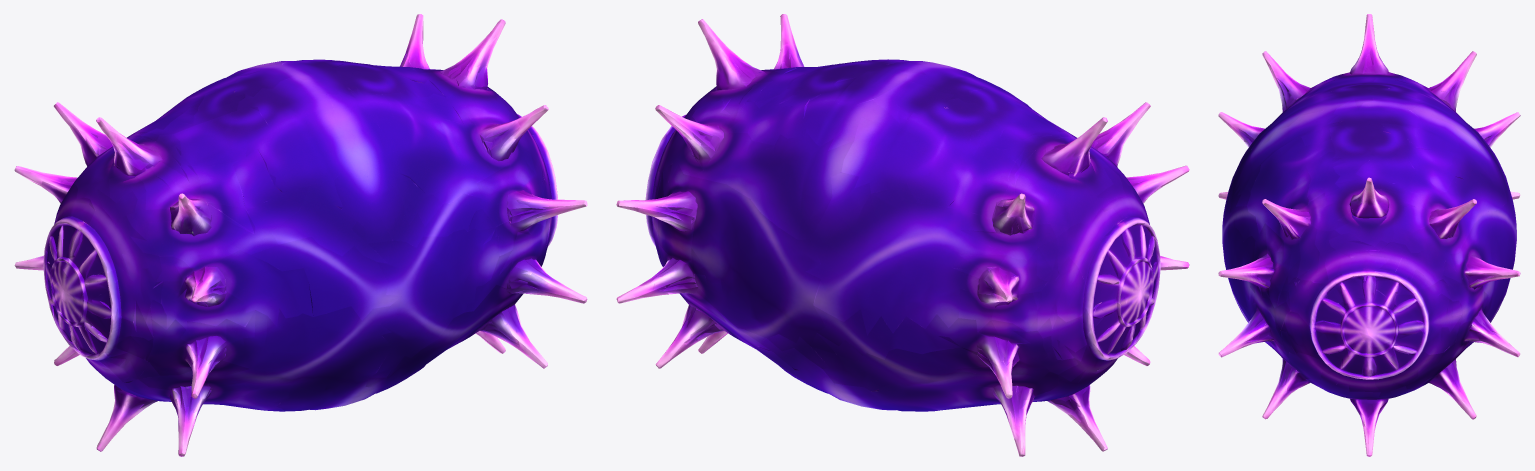
The model's file is predator_spiky.glb.
3 views of the same model, side by side, from view 1: azimuth 30°, elevation 25°; view 2: azimuth 150°, elevation 25°; view 3: azimuth 270°, elevation 25° (orthographic). The views are drawn at different scales.
Bounding box in the file's own units: 1.9 × 1.27 × 1.25.
Materials: 1 (1 with a texture image).
